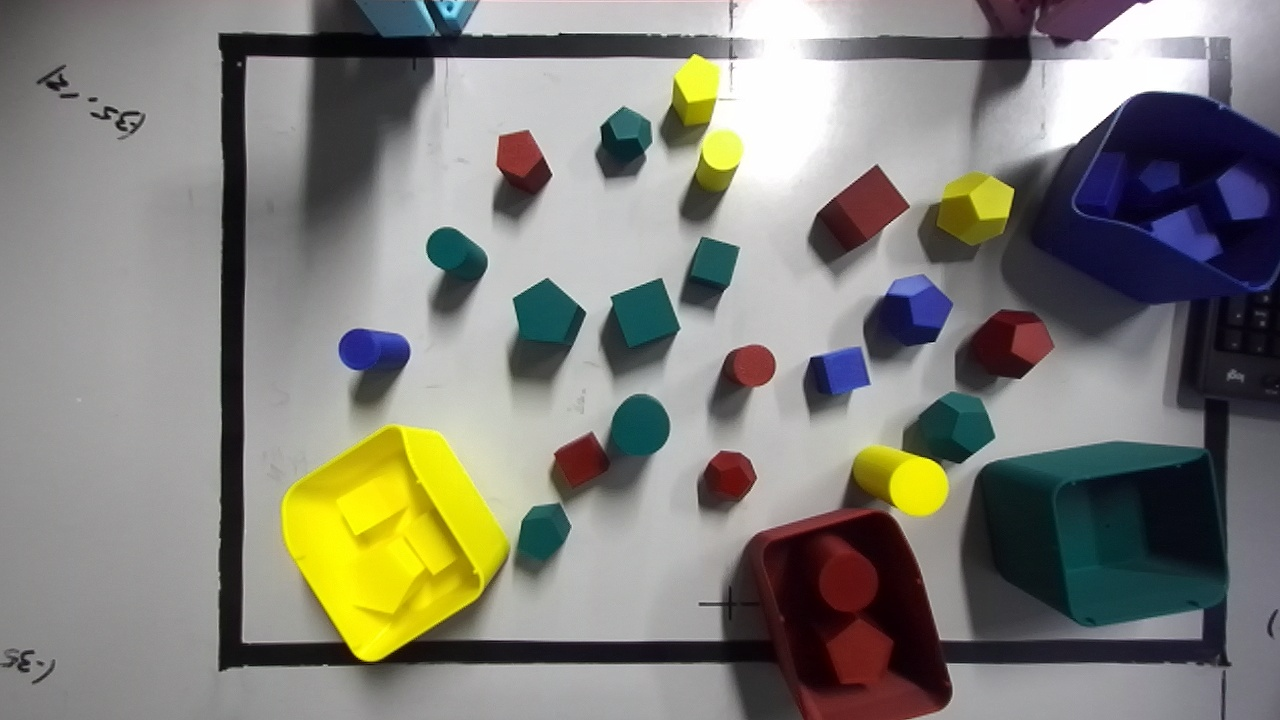bin: (280, 425, 508, 661), (1032, 92, 1279, 303), (980, 442, 1227, 624), (746, 509, 951, 719)
cube: (816, 164, 909, 250), (611, 279, 679, 347), (336, 475, 408, 535), (1150, 205, 1221, 261), (554, 432, 609, 487), (808, 347, 870, 394), (687, 237, 739, 290)
cylinder: (851, 445, 948, 515), (803, 533, 877, 613), (610, 394, 669, 455), (426, 227, 487, 280), (338, 329, 410, 370), (696, 130, 742, 190), (721, 344, 775, 386)
dodecahedron: (971, 309, 1053, 378), (937, 172, 1014, 244), (917, 391, 994, 462), (880, 275, 952, 344), (601, 107, 651, 160), (704, 451, 756, 500)
hexagonal: (352, 538, 423, 613), (513, 278, 585, 345), (825, 618, 892, 684), (401, 511, 456, 574), (496, 130, 551, 193), (672, 55, 719, 125), (1076, 152, 1125, 217), (517, 503, 570, 561), (1216, 165, 1269, 219), (1138, 159, 1179, 192)
